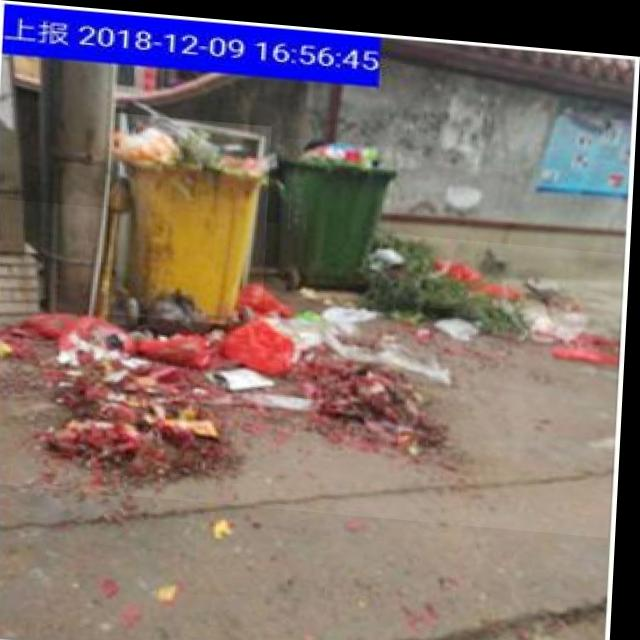garbage: (0, 198, 625, 526)
overflow: (109, 110, 273, 322), (279, 132, 396, 281)
